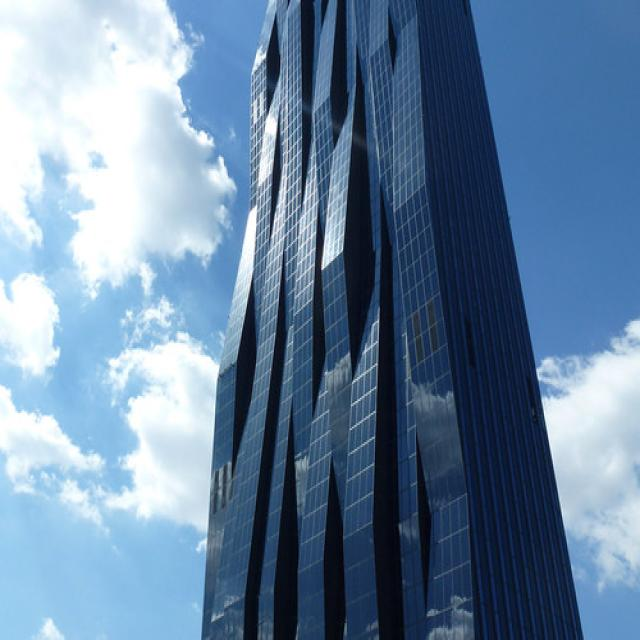building: (195, 1, 590, 640)
